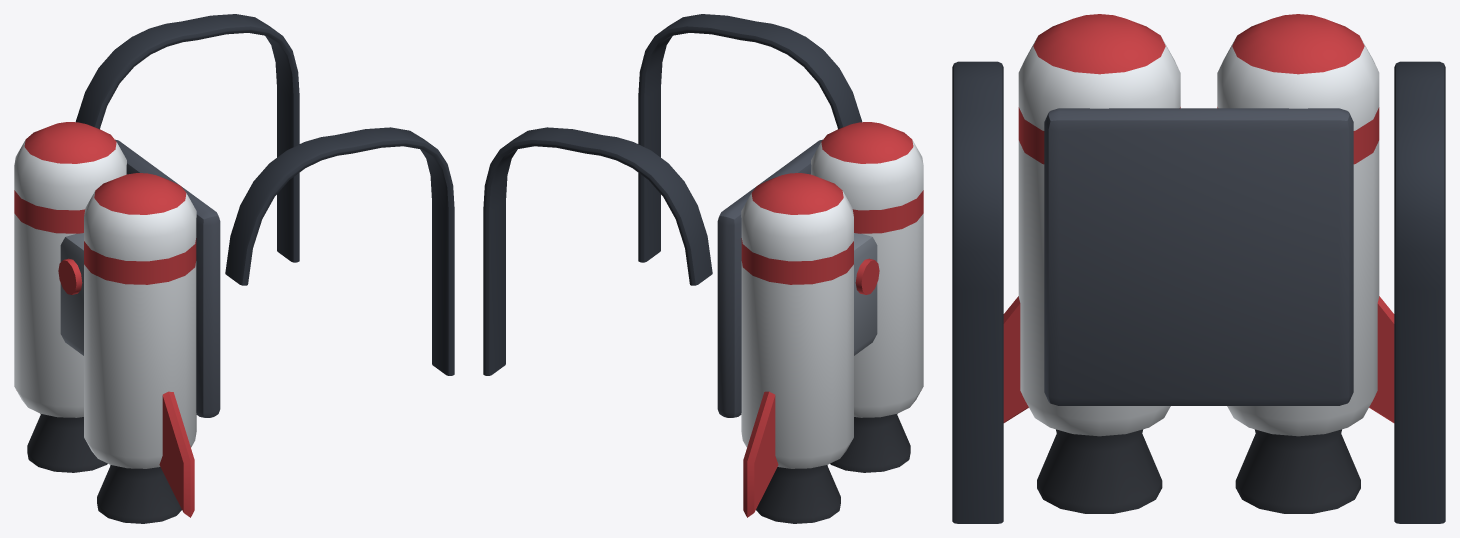
File: detail_jetpack.glb
3 renders of one model, left to right at view 1: azimuth 30°, elevation 25°; view 2: azimuth 150°, elevation 25°; view 3: azimuth 270°, elevation 25°, orthographic. The views are drawn at different scales.
Visible parts, largest first — view 1: detail_jetpack; view 2: detail_jetpack; view 3: detail_jetpack.
Part boxes in pixels (<box>): detail_jetpack: <box>14,14,454,523</box>; detail_jetpack: <box>483,14,923,523</box>; detail_jetpack: <box>952,14,1445,523</box>.
Size of the model in its own units: 0.701 by 0.7662 by 0.67.
